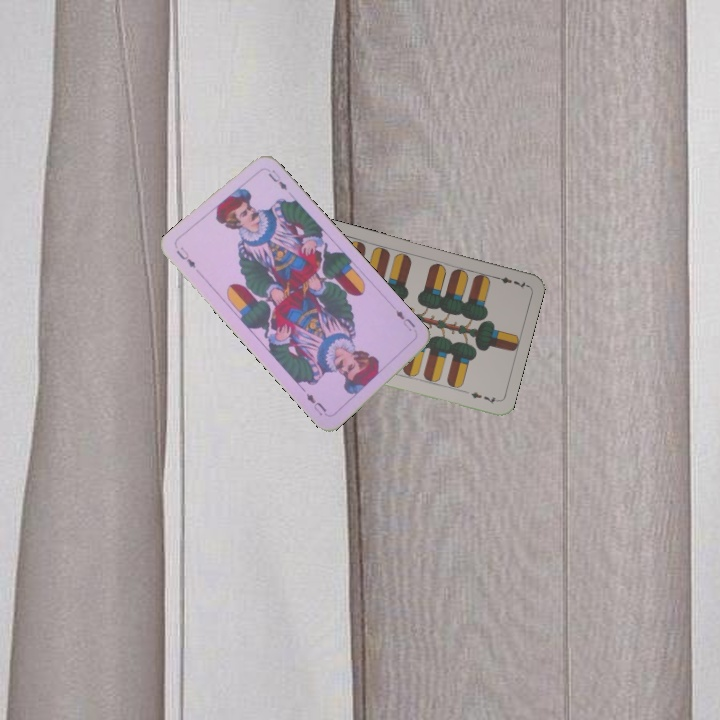E7: (489, 272, 529, 292)
EU: (391, 306, 418, 334), (172, 243, 198, 270)
